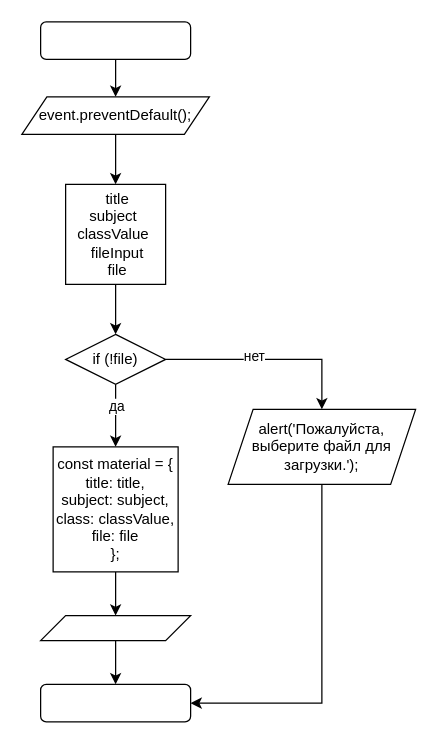
The diagram is 438 pixels wide and 744 high, and some of its shapes have lost their labels. Here are the shapes that lost their labels. From the top down, the centre of each, then its label:
[115,40]: Начало
[115,627]: Подтвердить
[115,702]: Конец
